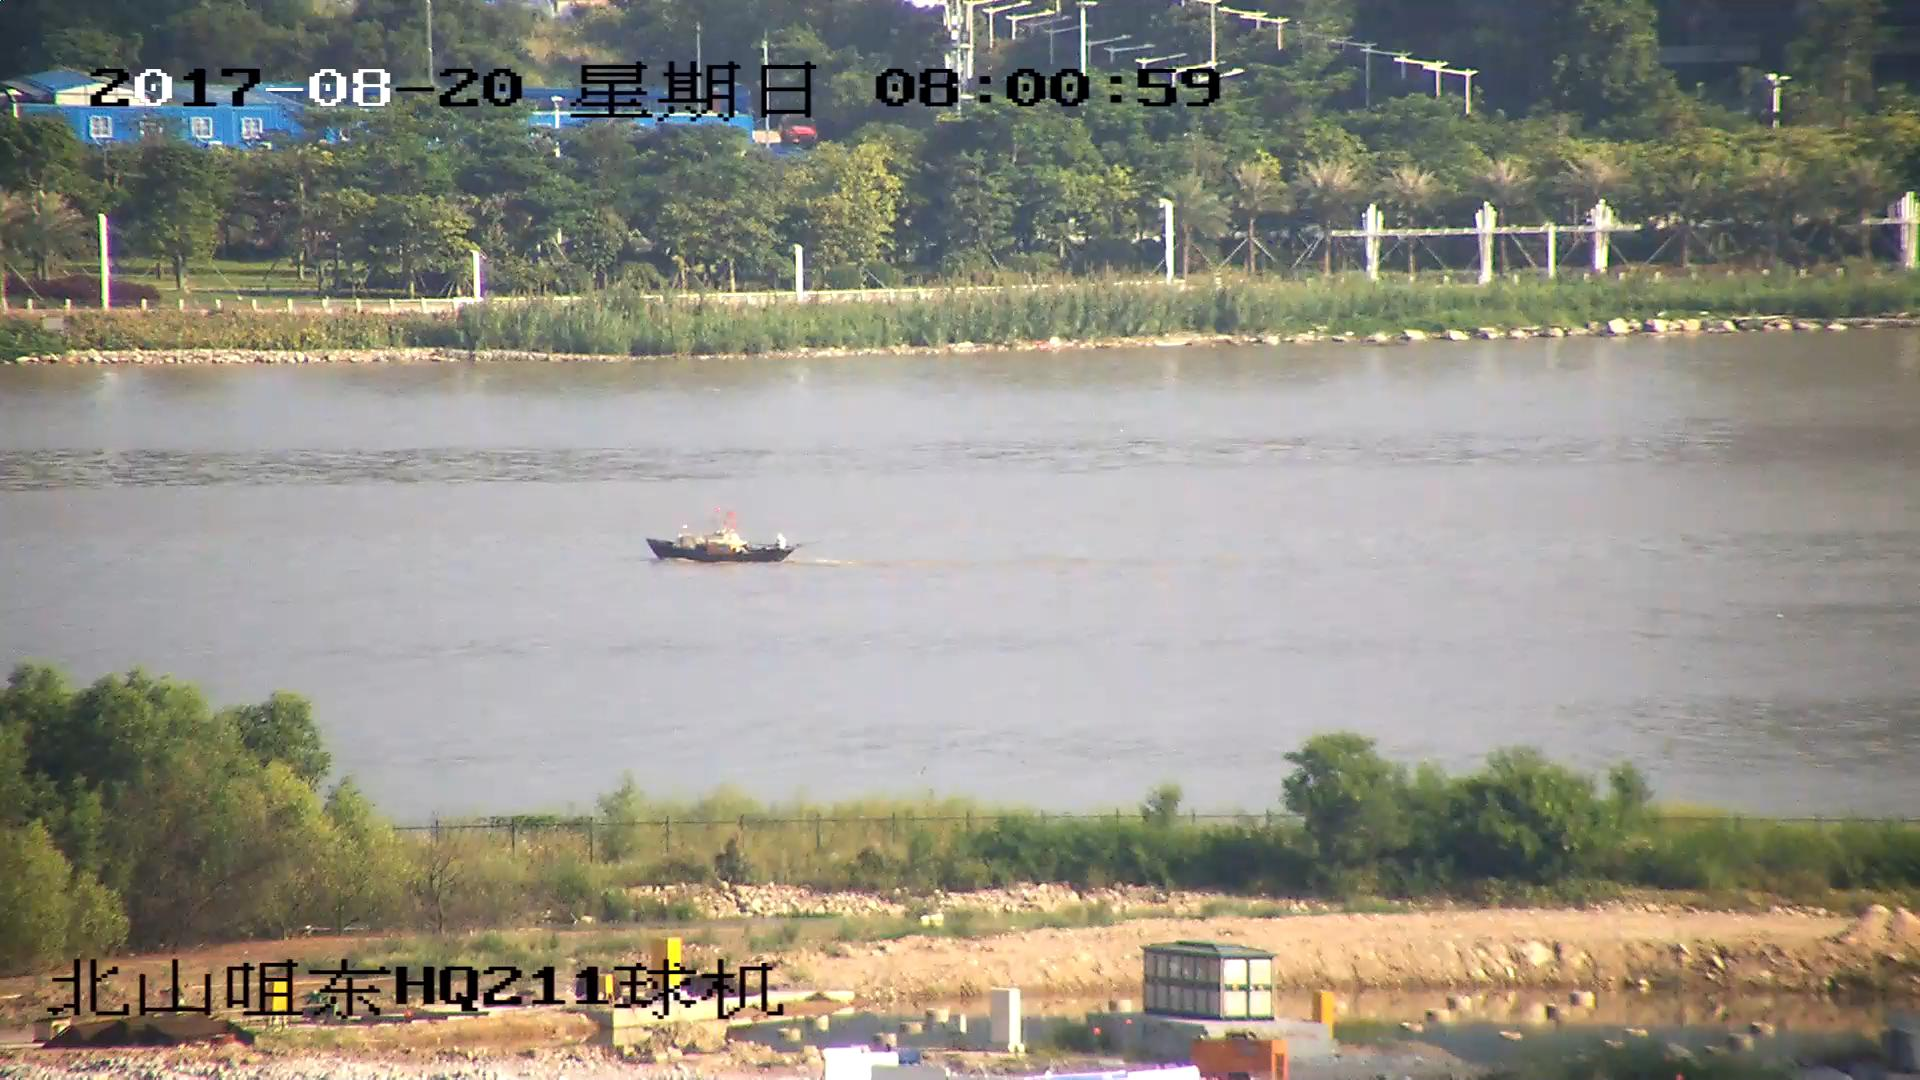fishing boat: (646, 514, 792, 561)
